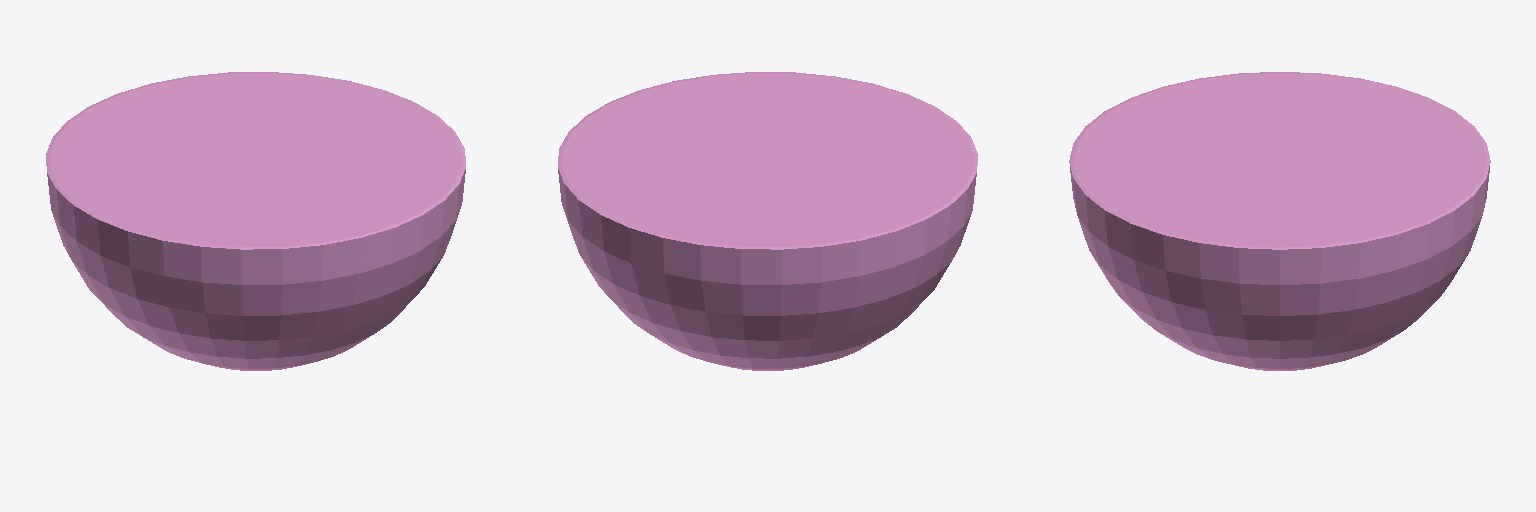
Rendered from Map_FloatIsland01.obj.
3 views of the same model, side by side, from view 1: azimuth 30°, elevation 25°; view 2: azimuth 150°, elevation 25°; view 3: azimuth 270°, elevation 25° (orthographic).
Visible parts, largest first — view 1: Sphere020; view 2: Sphere020; view 3: Sphere020.
Boxes of the visible parts, x1,y1,x2,y2 form: Sphere020: [46, 72, 465, 370]; Sphere020: [558, 72, 977, 370]; Sphere020: [1069, 72, 1490, 370].
Bounding box in the file's own units: 11.69 × 5.86 × 11.69.